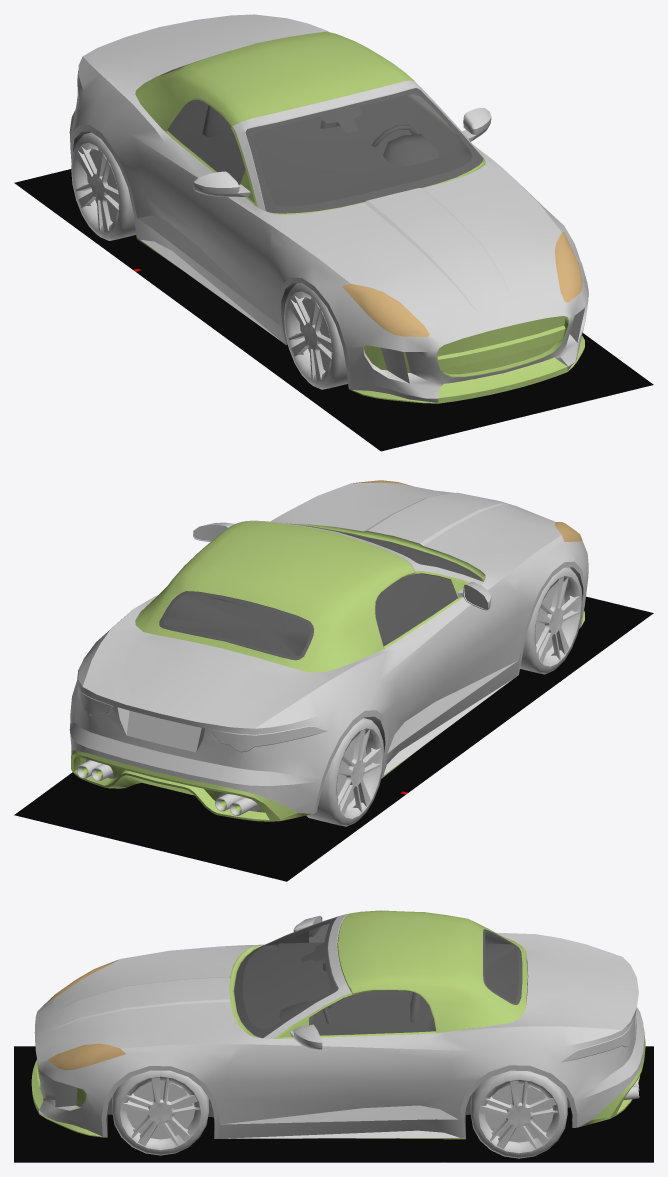
File: Fury.fbx
3 views of the same model, one above another, from view 1: azimuth 30°, elevation 25°; view 2: azimuth 150°, elevation 25°; view 3: azimuth 270°, elevation 25° (orthographic). The views are drawn at different scales.
Visible parts, largest first — view 1: Fury_body, CarShadow, Fury_Wheel_RR, Fury_Wheel_FR; view 2: Fury_body, CarShadow, Fury_Wheel_RR, Fury_Wheel_FR; view 3: Fury_body, CarShadow, Fury_Wheel_RL, Fury_Wheel_FL.
Part boxes in pixels (x1,y1,x2,y2): Fury_body: (69,14,588,403); CarShadow: (14,169,653,451); Fury_Wheel_RR: (71,132,136,240); Fury_Wheel_FR: (284,283,347,389); Fury_body: (69,480,588,821); CarShadow: (14,596,653,881); Fury_Wheel_RR: (306,718,384,826); Fury_Wheel_FR: (520,567,582,674); Fury_body: (31,910,645,1139); CarShadow: (14,1046,653,1162); Fury_Wheel_RL: (470,1070,567,1158); Fury_Wheel_FL: (112,1070,208,1155).
Bounding box in the file's own units: 2.17 × 1.34 × 4.67.
